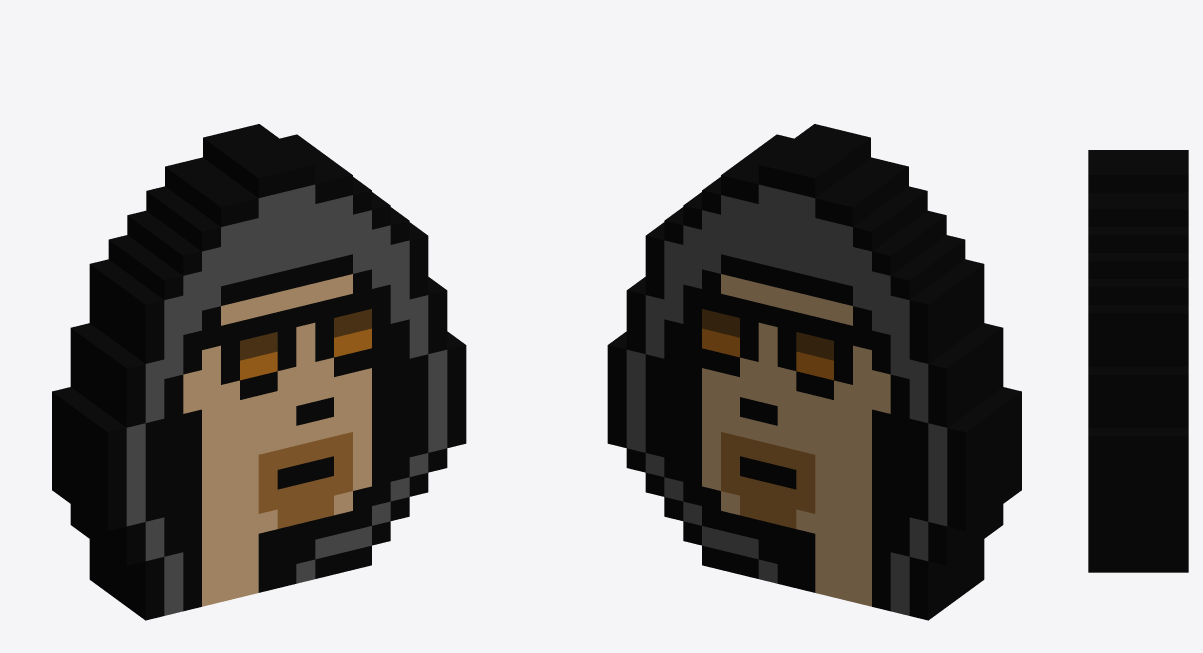
The model's file is ARPunk7844.glb.
3 renders of one model, left to right at view 1: azimuth 30°, elevation 25°; view 2: azimuth 150°, elevation 25°; view 3: azimuth 270°, elevation 25°, orthographic. The views are drawn at different scales.
Parts seen in each view (by area): view 1: Mesh_370.010, Mesh_288.010, Mesh_386.010, Mesh_415.010, Mesh_486.010, Mesh_217.010, Mesh_435.010, Mesh_460.010, Mesh_240.010, Mesh_19.010, Mesh_264.010, Mesh_34.010 (+11 smaller); view 2: Mesh_370.010, Mesh_288.010, Mesh_386.010, Mesh_415.010, Mesh_486.010, Mesh_217.010, Mesh_435.010, Mesh_460.010, Mesh_240.010, Mesh_19.010, Mesh_264.010, Mesh_34.010 (+11 smaller); view 3: Mesh_239.010, Mesh_305.010, Mesh_380.010, Mesh_489.010, Mesh_398.010, Mesh_423.010, Mesh_453.010, Mesh_474.010, Mesh_143.010, Mesh_257.010, Mesh_281.010, Mesh_167.010 (+12 smaller).
Boxes of the visible parts, x1,y1,x2,y2 form: Mesh_370.010: (89, 259, 164, 324); Mesh_288.010: (70, 323, 145, 388); Mesh_386.010: (108, 235, 183, 299); Mesh_415.010: (127, 210, 201, 275); Mesh_486.010: (203, 133, 277, 197); Mesh_217.010: (52, 387, 126, 451); Mesh_435.010: (146, 186, 220, 251); Mesh_460.010: (165, 162, 239, 226); Mesh_240.010: (70, 367, 145, 427); Mesh_19.010: (89, 560, 164, 620); Mesh_264.010: (70, 347, 145, 407); Mesh_34.010: (89, 540, 164, 600); Mesh_370.010: (909, 259, 984, 324); Mesh_288.010: (928, 323, 1003, 388); Mesh_386.010: (890, 235, 965, 299); Mesh_415.010: (872, 210, 946, 275); Mesh_486.010: (796, 133, 870, 197); Mesh_217.010: (947, 387, 1021, 451); Mesh_435.010: (853, 186, 927, 251); Mesh_460.010: (834, 162, 908, 226); Mesh_240.010: (928, 367, 1003, 427); Mesh_19.010: (909, 560, 984, 620); Mesh_264.010: (928, 347, 1003, 407); Mesh_34.010: (909, 540, 984, 600); Mesh_239.010: (1088, 428, 1188, 454); Mesh_305.010: (1088, 366, 1188, 392); Mesh_380.010: (1088, 305, 1188, 331); Mesh_489.010: (1088, 166, 1188, 192); Mesh_398.010: (1088, 279, 1188, 304); Mesh_423.010: (1088, 253, 1188, 278); Mesh_453.010: (1088, 227, 1188, 252); Mesh_474.010: (1088, 201, 1188, 226); Mesh_143.010: (1088, 507, 1188, 525); Mesh_257.010: (1088, 410, 1188, 428); Mesh_281.010: (1088, 392, 1188, 410); Mesh_167.010: (1088, 490, 1188, 507).
Bounding box in the file's own units: 24 × 24 × 5.13.
1 material, 1 textured.
